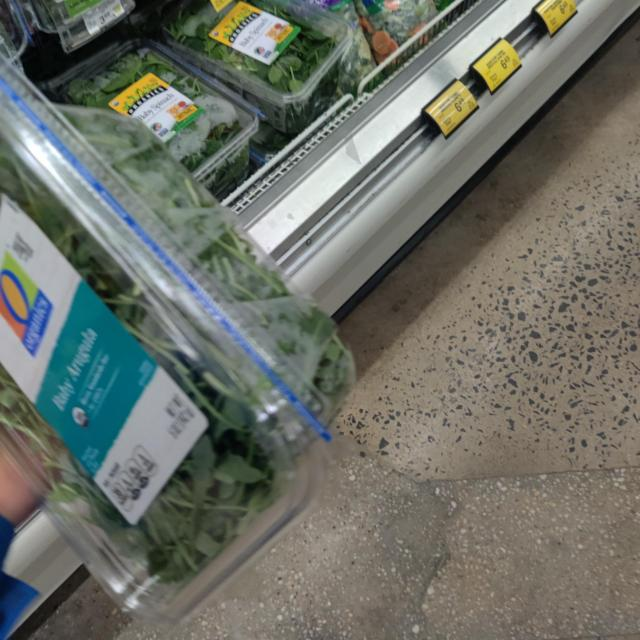Salad: (0, 105, 359, 620), (46, 43, 259, 191), (159, 0, 356, 123)
